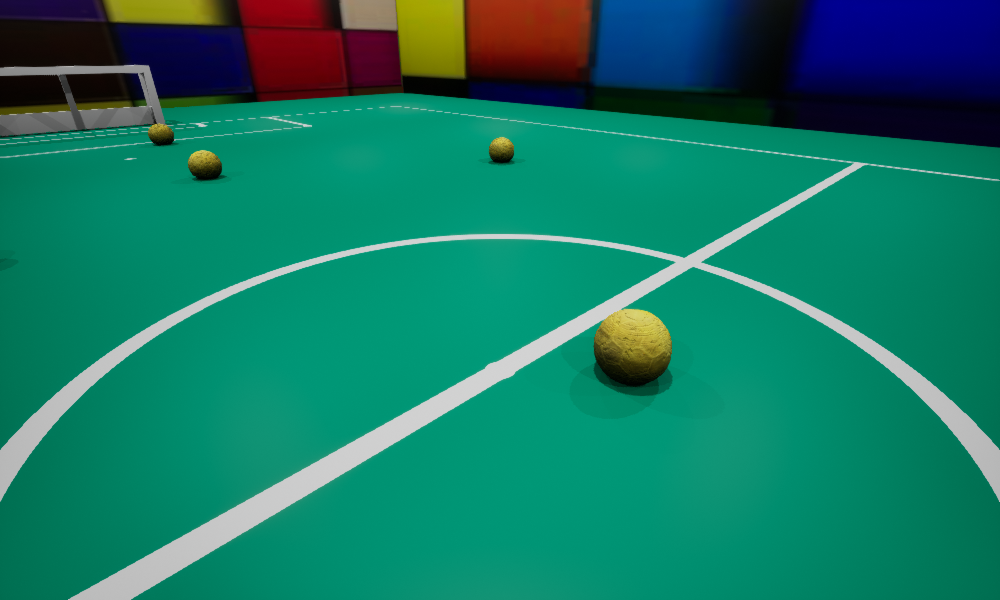b: (593, 309, 671, 384), (188, 150, 221, 179), (489, 137, 513, 162), (148, 123, 173, 143)
g: (0, 65, 165, 135)
